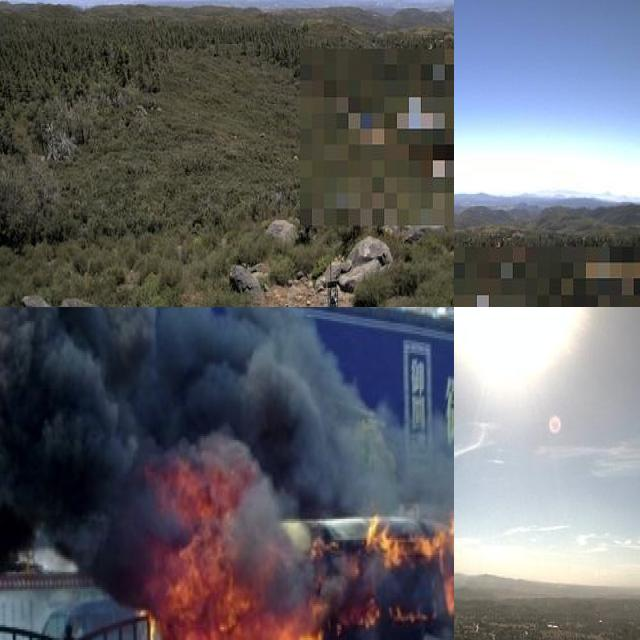fire: (143, 457, 454, 640)
smoke: (0, 307, 391, 512)
